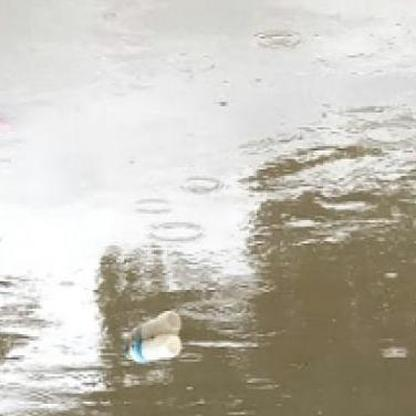plastic bottle: (121, 335, 181, 363)
